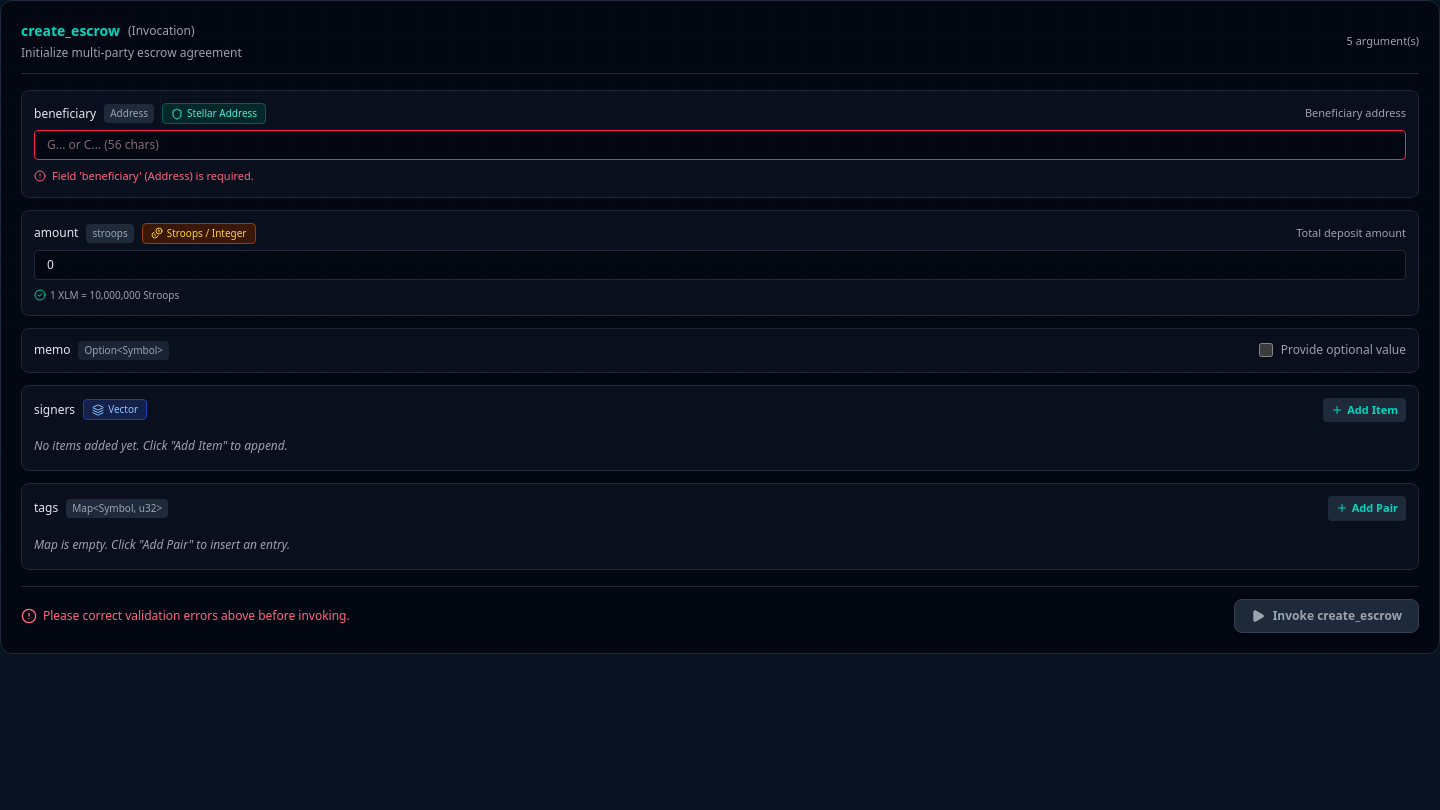
Scenario: ContractInvocationForm Component › enables invoke button and triggers onInvoke with serialized ScVals when valid
The image size is (1440, 810).
Later steps or results of the test are not shown.
Fill valid address
Type "GABFQIK63R2NETJM7T673EAMZN4RJLLGP3OFUEJU5SZVTGWUKULZJNL6" into the field with test id "input-beneficiary".
click(720, 145); type("GABFQIK63R2NETJM7T673EAMZN4RJLLGP3OFUEJU5SZVTGWUKULZJNL6")  # box [34, 130, 1406, 160]
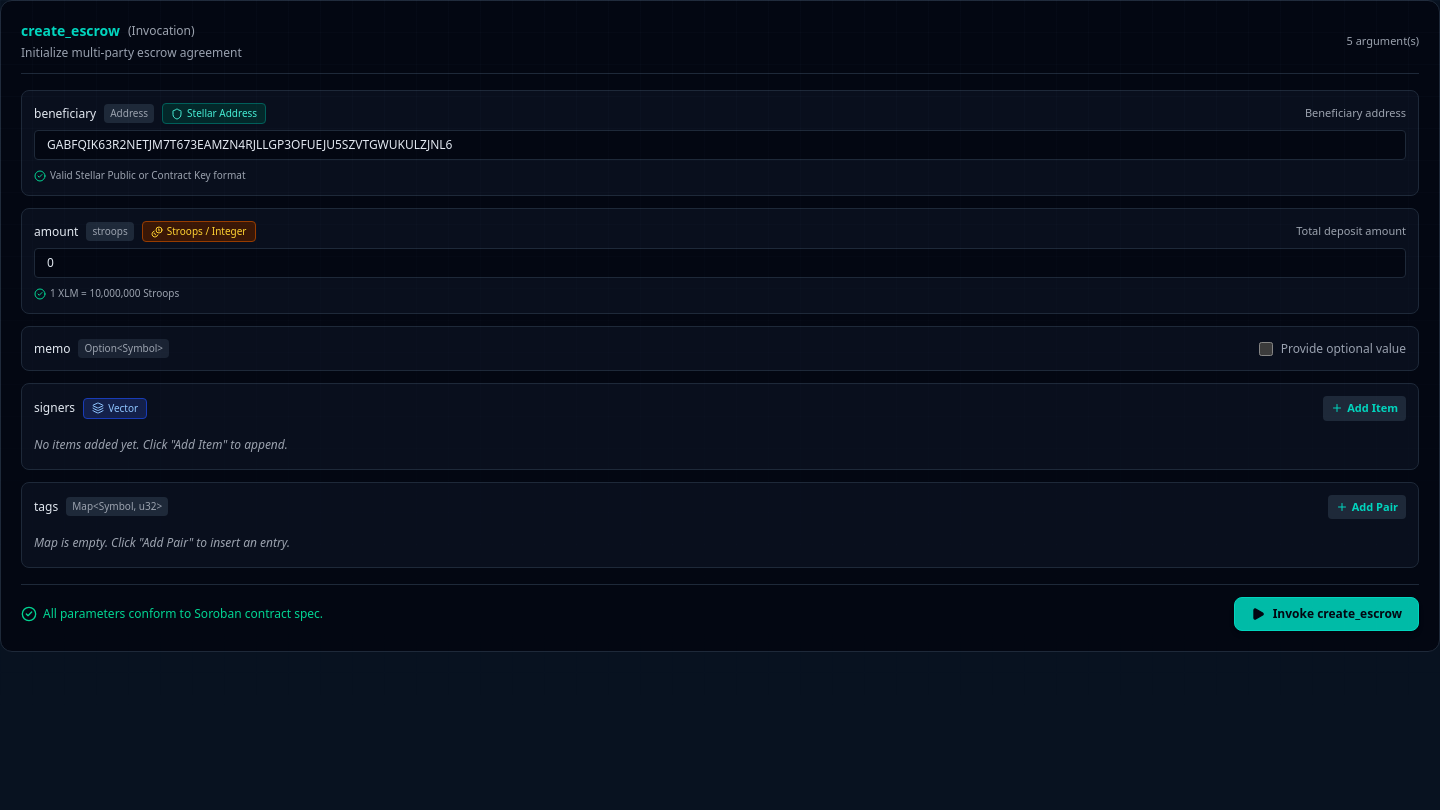
Fill valid stroops
Replace the text in the field with test id "input-amount" with "50000000" at (720, 263), box [34, 248, 1406, 278]
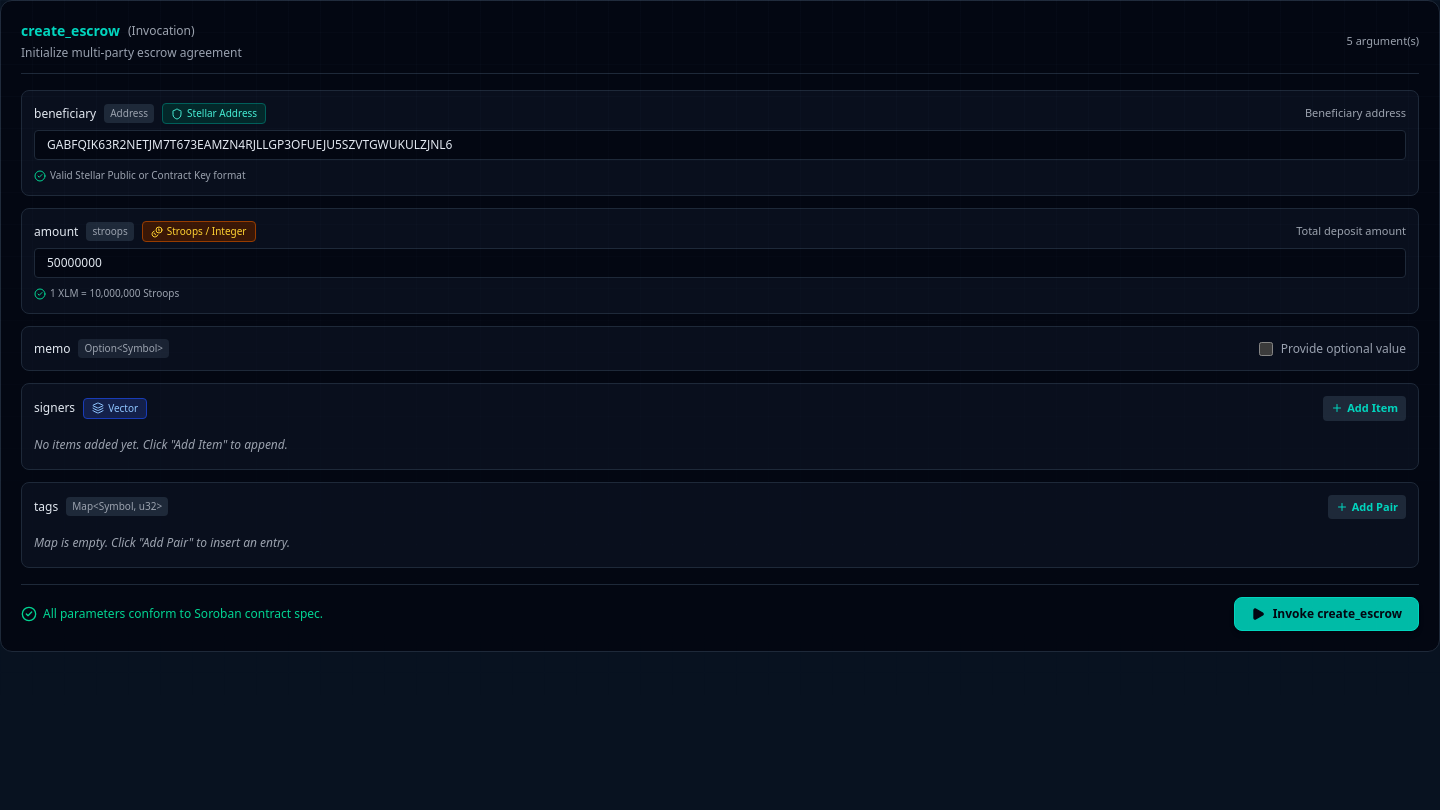
Result: the button with test id "invoke-contract-btn" is enabled at [1234, 597, 1419, 631]
